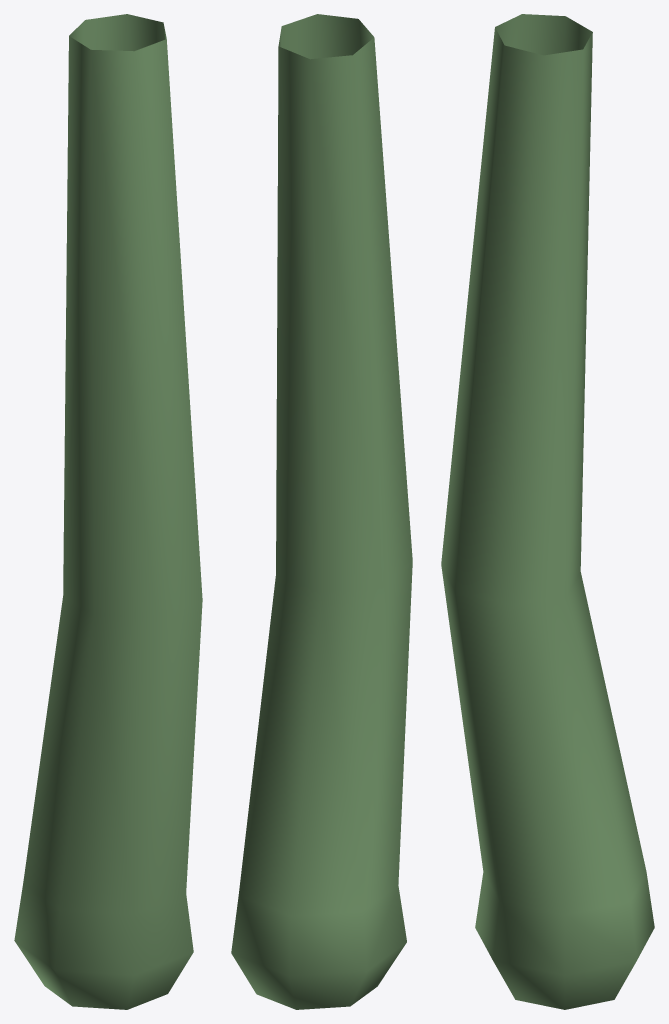
Rendered from Tallo_2.fbx.
The picture shows the model from 3 angles, left to right: view 1: azimuth 30°, elevation 25°; view 2: azimuth 150°, elevation 25°; view 3: azimuth 270°, elevation 25°; orthographic projection.
Parts seen in each view (by area): view 1: Tallo_2; view 2: Tallo_2; view 3: Tallo_2.
Part boxes in pixels (left/top/right/bottom): Tallo_2: left=14, top=14, right=202, bottom=1009; Tallo_2: left=231, top=14, right=412, bottom=1009; Tallo_2: left=441, top=14, right=654, bottom=1009.
Size of the model in its own units: 0.2344 by 1.41 by 0.2859.
